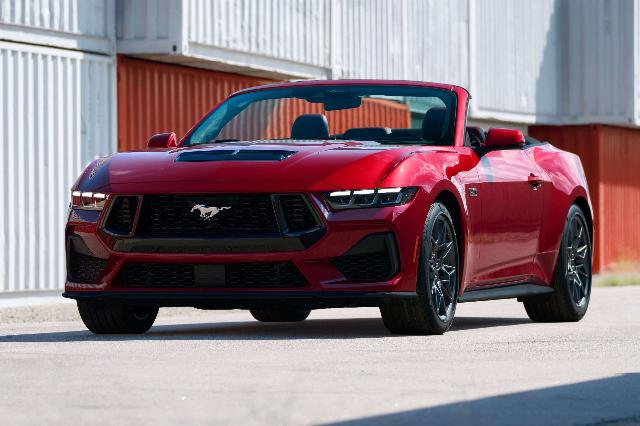ford-mustang: (61, 78, 595, 336)
